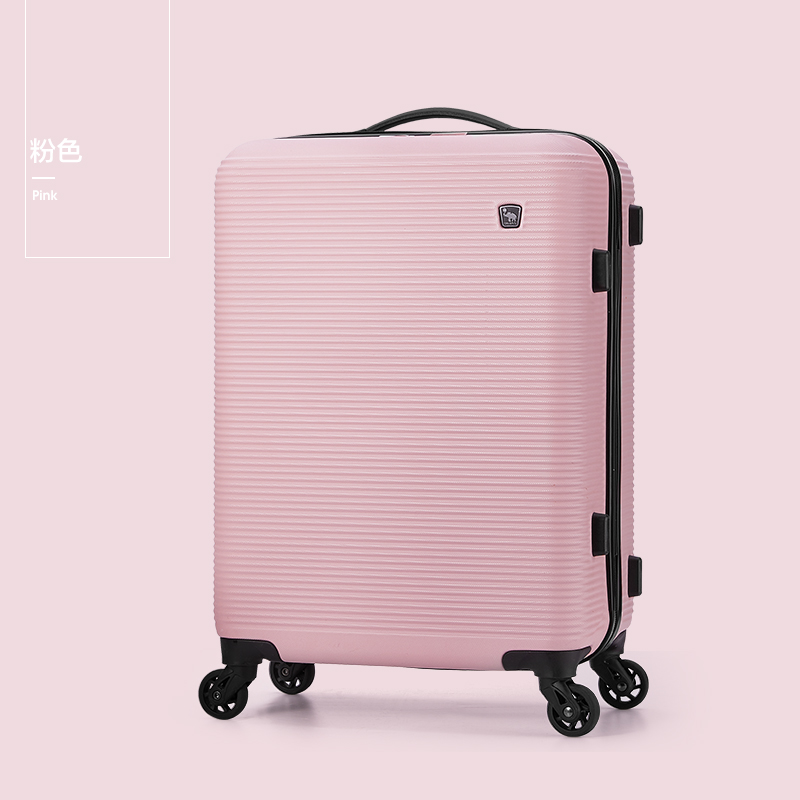box: (214, 130, 634, 671)
handle: (351, 107, 520, 133)
wheel: (546, 684, 600, 738), (598, 659, 649, 710), (198, 669, 248, 720), (268, 658, 315, 695)
